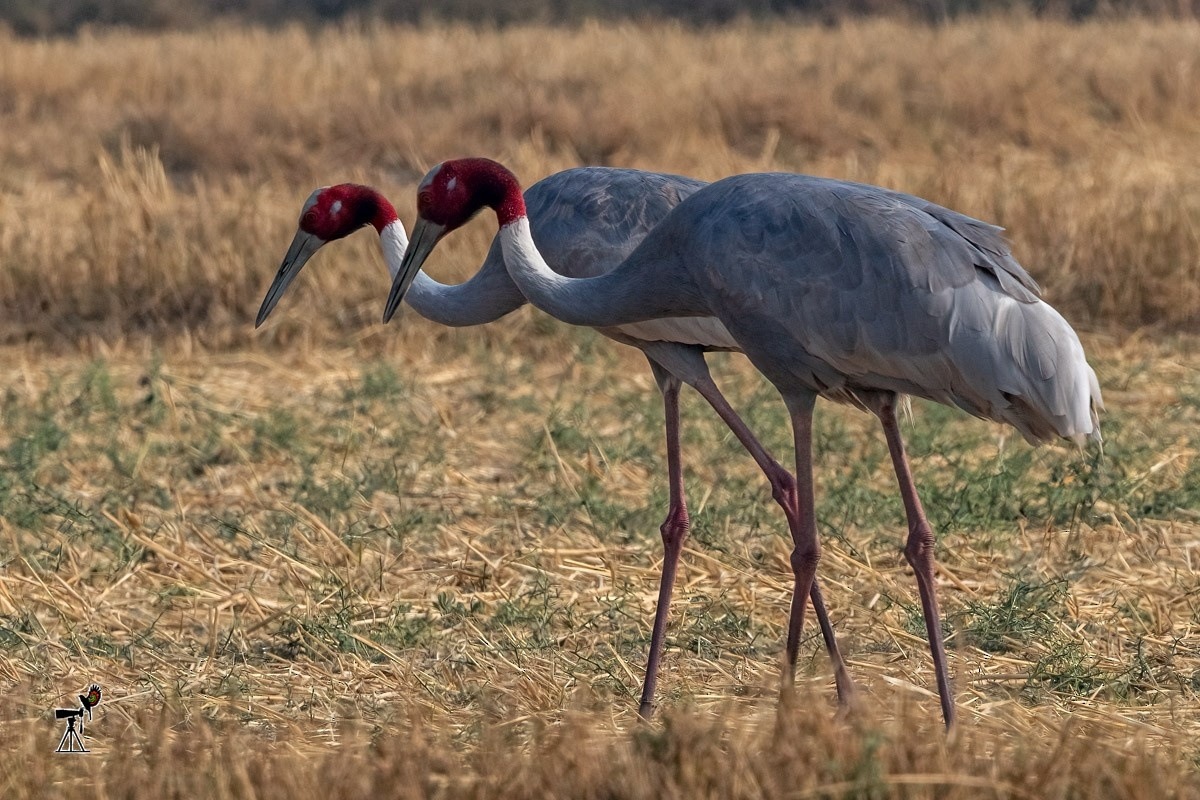crane: (381, 146, 1140, 699), (247, 167, 380, 356)
